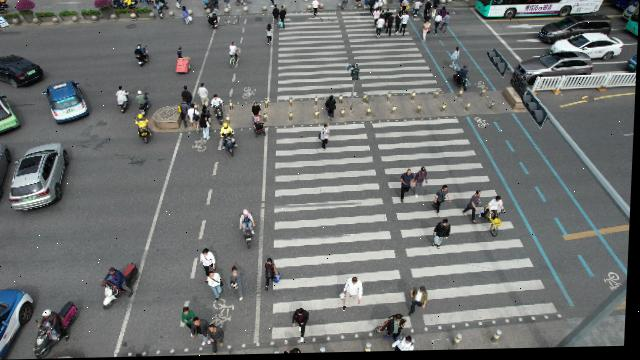non-motor-vehicle: (39, 301, 82, 344), (103, 263, 144, 299), (485, 195, 511, 241), (236, 210, 265, 251), (112, 84, 133, 119), (209, 96, 231, 124), (134, 116, 155, 145), (136, 88, 156, 117), (452, 69, 475, 93), (221, 128, 240, 156), (133, 45, 151, 68), (229, 43, 242, 68), (181, 8, 194, 25), (207, 13, 219, 30), (413, 1, 422, 21), (0, 0, 9, 12)
person: (335, 274, 372, 317), (376, 312, 414, 340), (229, 264, 253, 307), (410, 286, 438, 319), (248, 101, 271, 140), (196, 245, 225, 275), (208, 320, 232, 356), (433, 220, 458, 254), (265, 255, 286, 295), (174, 46, 197, 80), (295, 307, 316, 344), (205, 272, 229, 302), (192, 317, 212, 349), (468, 189, 485, 226), (398, 170, 416, 204), (435, 184, 452, 220), (415, 166, 432, 201), (178, 305, 197, 332), (199, 103, 214, 137), (394, 336, 421, 353), (176, 102, 192, 130), (188, 104, 203, 131), (320, 127, 336, 151), (327, 99, 341, 121), (447, 50, 462, 66), (386, 15, 395, 40), (423, 21, 432, 46), (310, 0, 323, 17), (180, 87, 193, 104), (265, 26, 276, 46), (280, 7, 289, 31), (198, 85, 213, 99), (401, 13, 409, 39), (271, 5, 280, 27), (434, 13, 442, 37), (377, 17, 385, 40), (443, 15, 451, 35), (396, 12, 402, 38), (400, 0, 411, 14), (368, 0, 375, 17), (374, 10, 380, 29), (340, 0, 349, 12), (424, 13, 432, 26), (379, 0, 386, 14), (425, 1, 432, 14), (432, 0, 441, 10), (363, 0, 370, 11), (441, 7, 447, 19), (375, 0, 380, 13)
